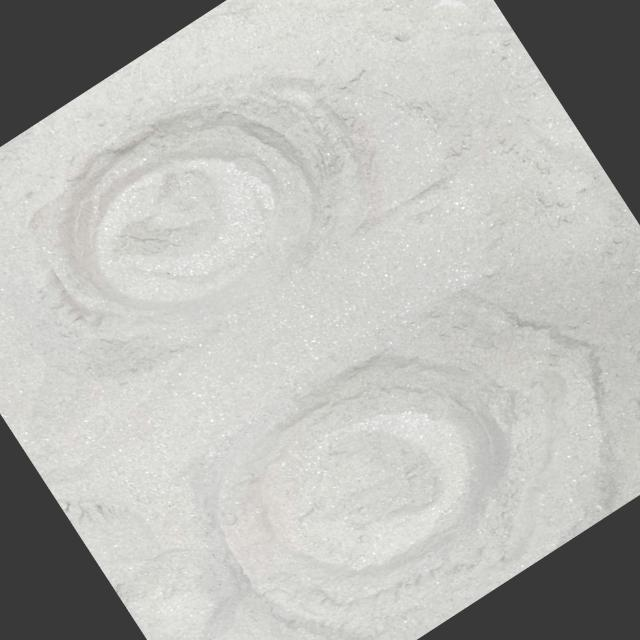C20: (220, 365, 518, 613), (40, 105, 329, 326)
